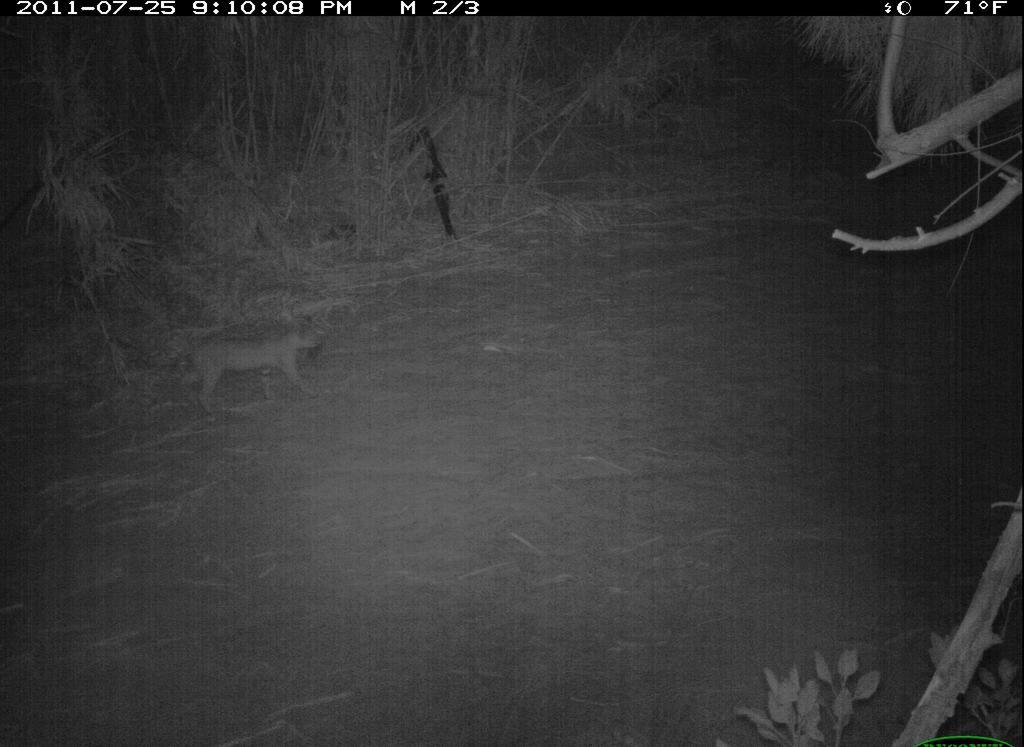bobcat: (172, 317, 331, 422)
